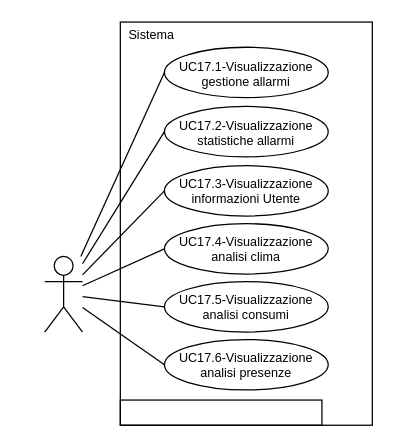
Some shapes in this 394 by 447 pixel diagram are drawn without their labels. Each missing label, with the box of its shape:
Amministratore: (43, 255, 83, 332)
UC17-Visualizzazione dashboard: (119, 399, 322, 425)
